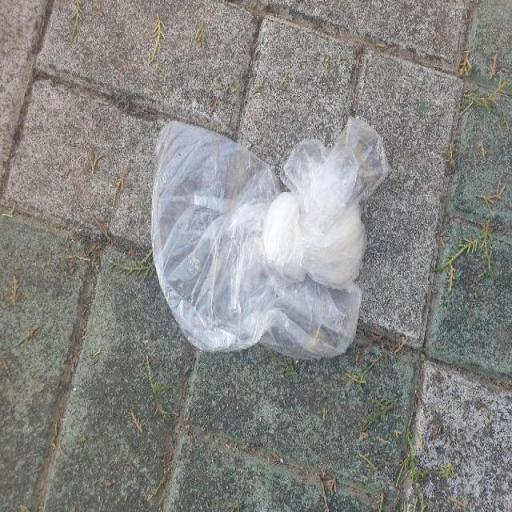plastic-bag: (150, 115, 396, 362)
